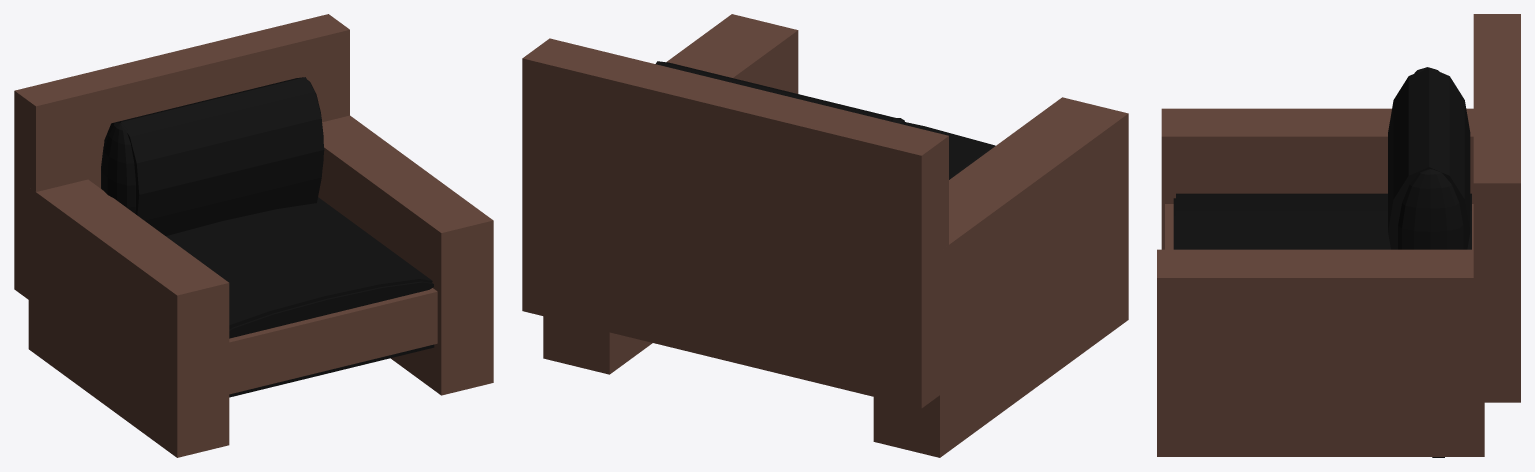
Rendered from Chair.gltf.
3 views of the same model, side by side, from view 1: azimuth 30°, elevation 25°; view 2: azimuth 150°, elevation 25°; view 3: azimuth 270°, elevation 25° (orthographic). The views are drawn at different scales.
Parts seen in each view (by area): view 1: node_MeshObject1482809344-PolyPaper21; view 2: node_MeshObject1482809344-PolyPaper21; view 3: node_MeshObject1482809344-PolyPaper21.
Boxes of the visible parts, x1,y1,x2,y2 form: node_MeshObject1482809344-PolyPaper21: (14, 14, 493, 457); node_MeshObject1482809344-PolyPaper21: (522, 14, 1128, 457); node_MeshObject1482809344-PolyPaper21: (1157, 14, 1520, 457).
Bounding box in the file's own units: 1.27 × 1 × 1.15.
